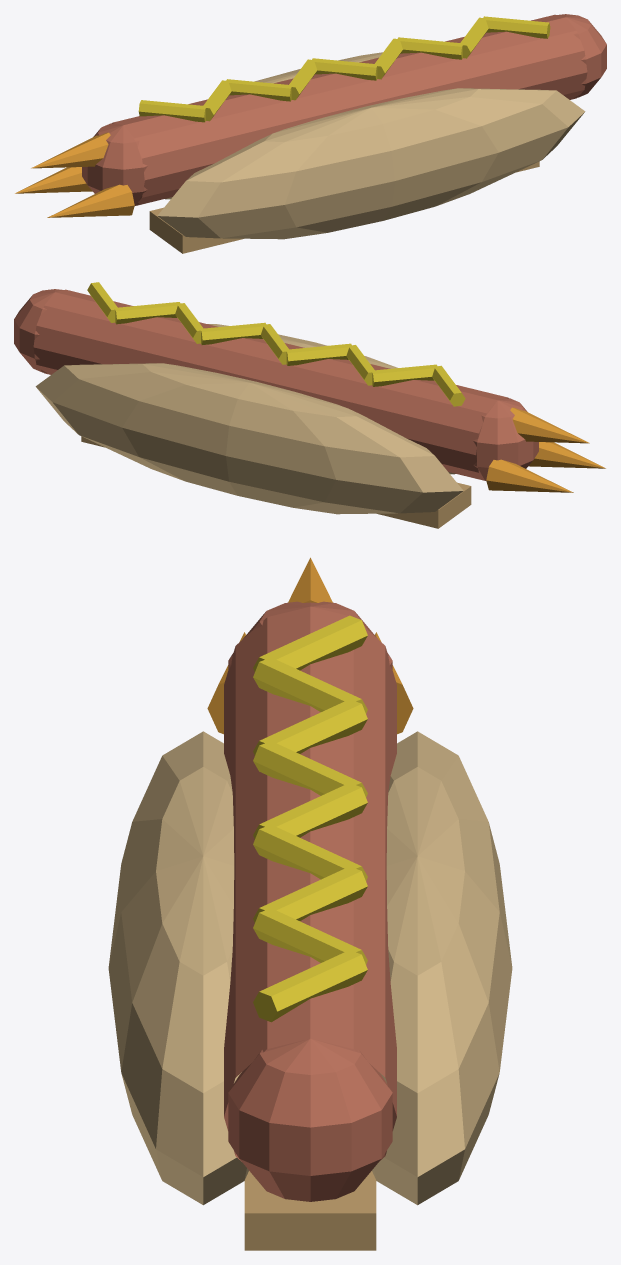
File: hot-dawg.glb
The picture shows the model from 3 angles, top to bottom: view 1: azimuth 30°, elevation 25°; view 2: azimuth 150°, elevation 25°; view 3: azimuth 270°, elevation 25°; orthographic projection. The views are drawn at different scales.
Visible parts, largest first — view 1: hot-dawg; view 2: hot-dawg; view 3: hot-dawg.
Boxes of the visible parts, left/top/right/bottom form: hot-dawg: left=15, top=14, right=606, bottom=253; hot-dawg: left=14, top=282, right=605, bottom=528; hot-dawg: left=108, top=557, right=512, bottom=1250.
Bounding box in the file's own units: 15 × 3.44 × 4.59.
